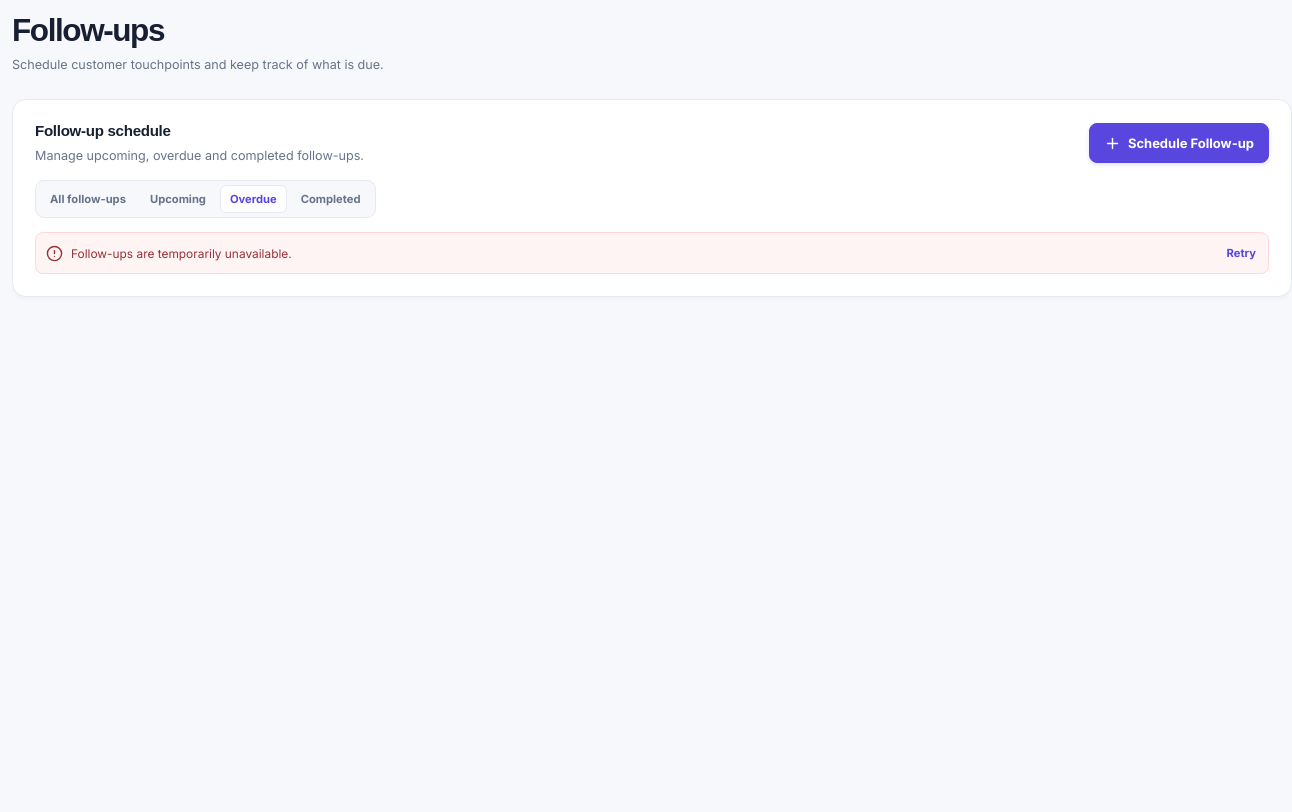
Test case: loads overdue tasks from the URL, retries a load failure, and completes the task
The width and height of the screenshot is (1292, 812).
Expected: the message shows "Follow-ups are temporarily unavailable.", [71,246,292,261]
Click the button "Retry": click(1241, 253) [1224,242,1258,264]
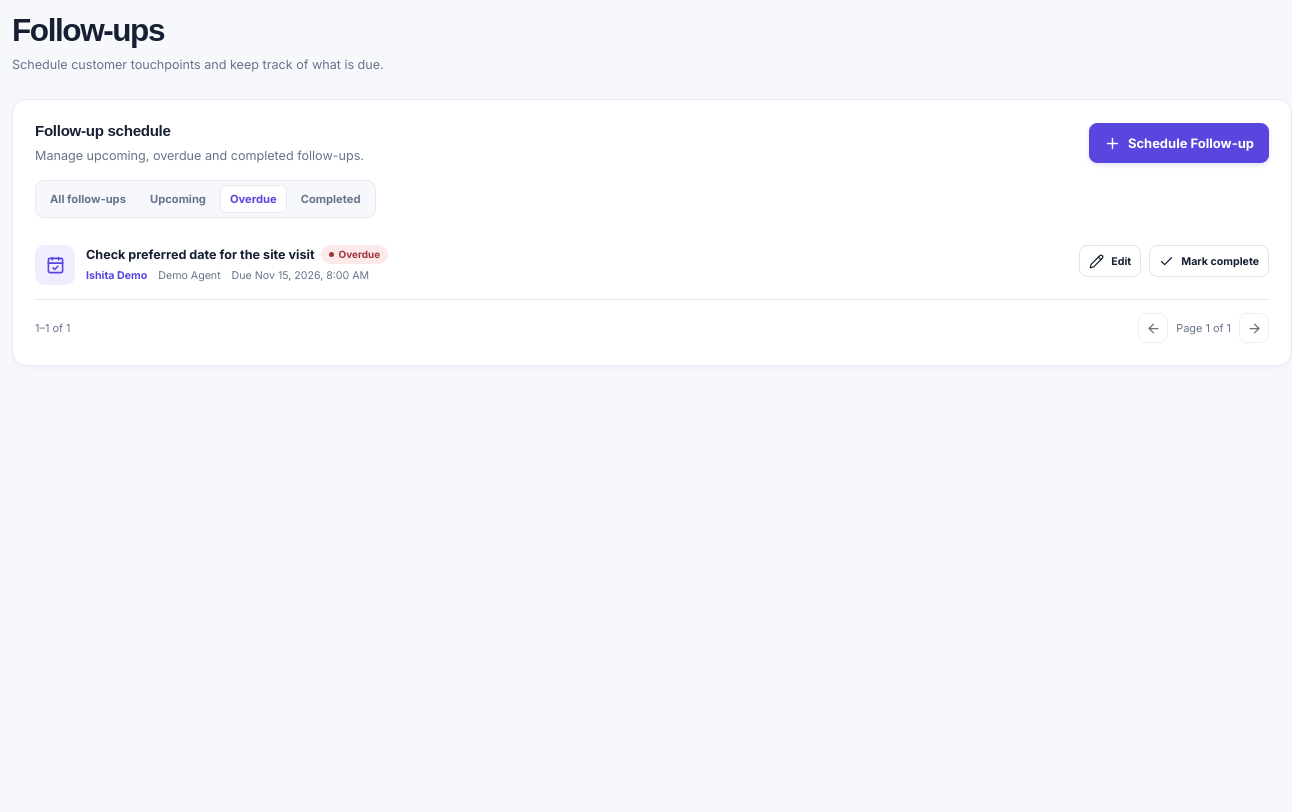
Result: the text "Check preferred date for the site visit" is shown at [86,247,315,262]
Click the button "Mark complete": click(1209, 261) [1149,245,1269,277]
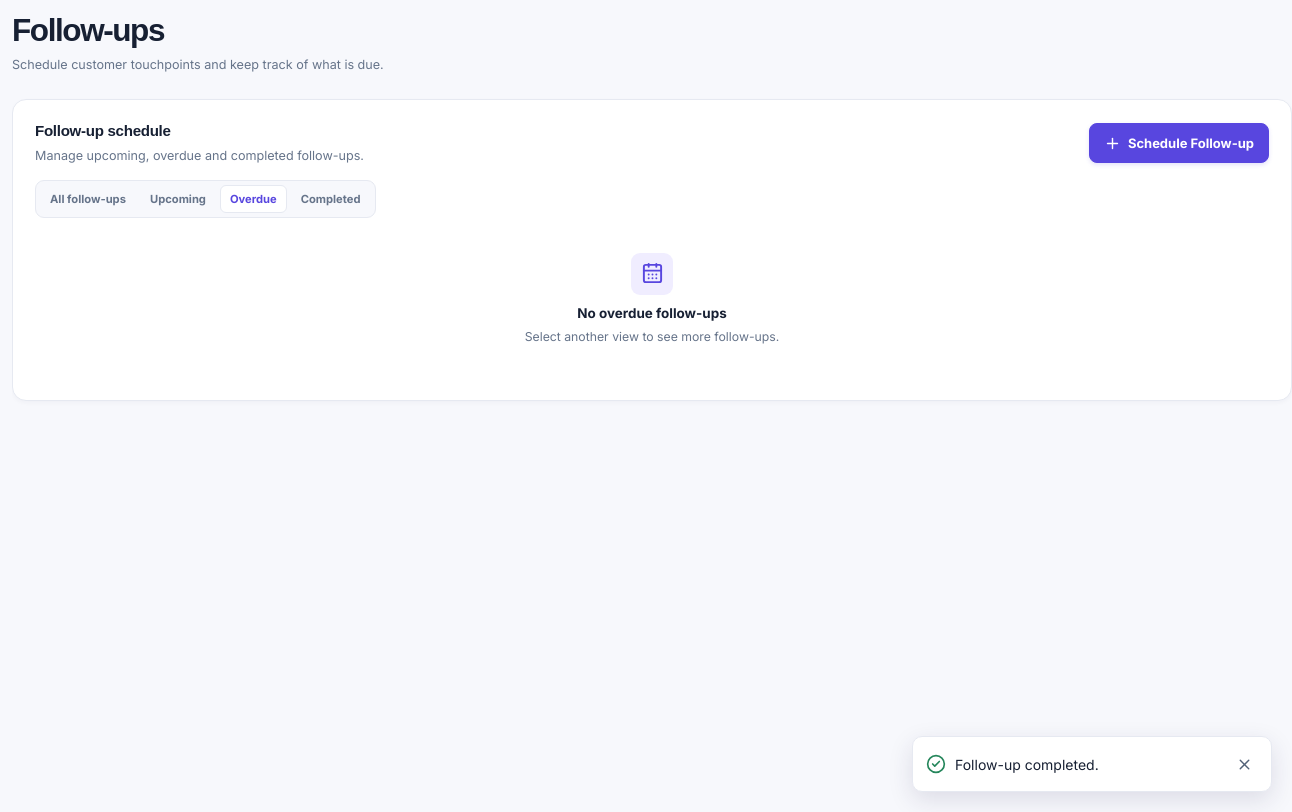
Result: the text "No overdue follow-ups" is shown at [577,305,727,321]
Result: the text "Follow-up completed." is shown at [955,756,1099,772]
